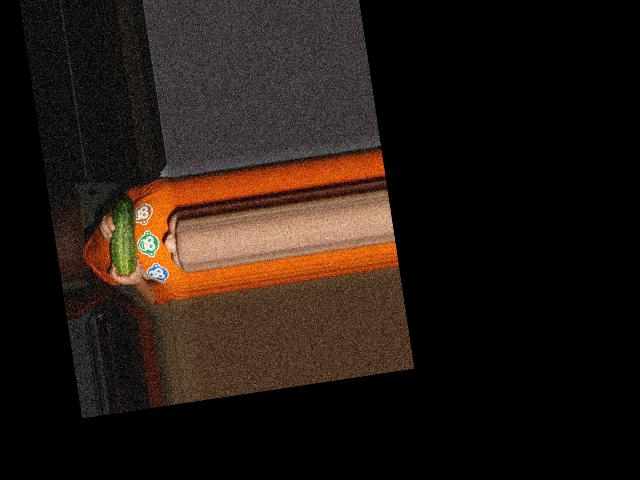cucumber: (102, 194, 144, 278)
